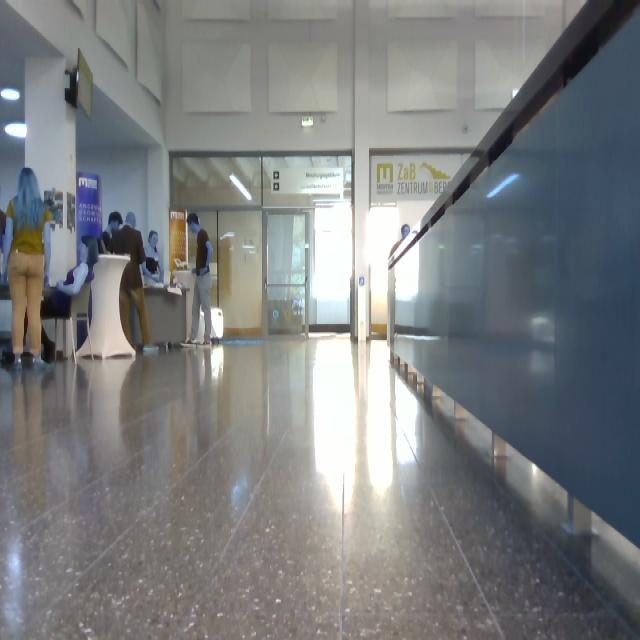banner: (372, 153, 467, 204), (78, 173, 103, 258)
desk: (144, 286, 191, 344)
door: (218, 212, 262, 336), (266, 214, 309, 334), (312, 205, 352, 330)
light bulb: (230, 174, 252, 202), (5, 124, 25, 138), (1, 88, 21, 102), (302, 116, 312, 128), (220, 232, 234, 240)
person: (4, 168, 53, 365), (112, 224, 151, 352), (42, 236, 98, 317), (189, 214, 213, 344), (142, 232, 163, 284), (389, 225, 410, 260)
pillar: (26, 60, 77, 285)
staircase: (388, 1, 640, 548)
table: (77, 256, 135, 358)
tiled floor: (1, 337, 640, 640)
